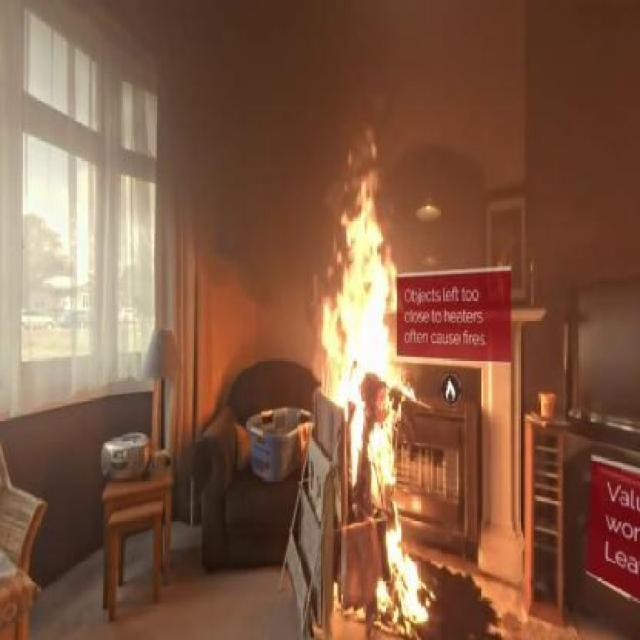fire: (329, 212, 423, 634)
smoke: (192, 27, 410, 156), (204, 126, 316, 325)
